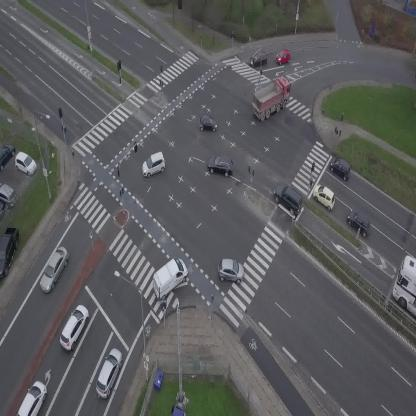car: (54, 302, 94, 352), (35, 244, 73, 295), (91, 346, 127, 399), (267, 180, 309, 218), (16, 379, 51, 416), (342, 208, 375, 238), (309, 182, 340, 211), (138, 151, 169, 179), (326, 153, 356, 181), (218, 259, 244, 283), (207, 155, 234, 177), (247, 50, 269, 67), (273, 48, 292, 65), (199, 114, 217, 131)
lorry: (245, 73, 300, 124), (143, 254, 194, 303), (392, 255, 416, 316)
